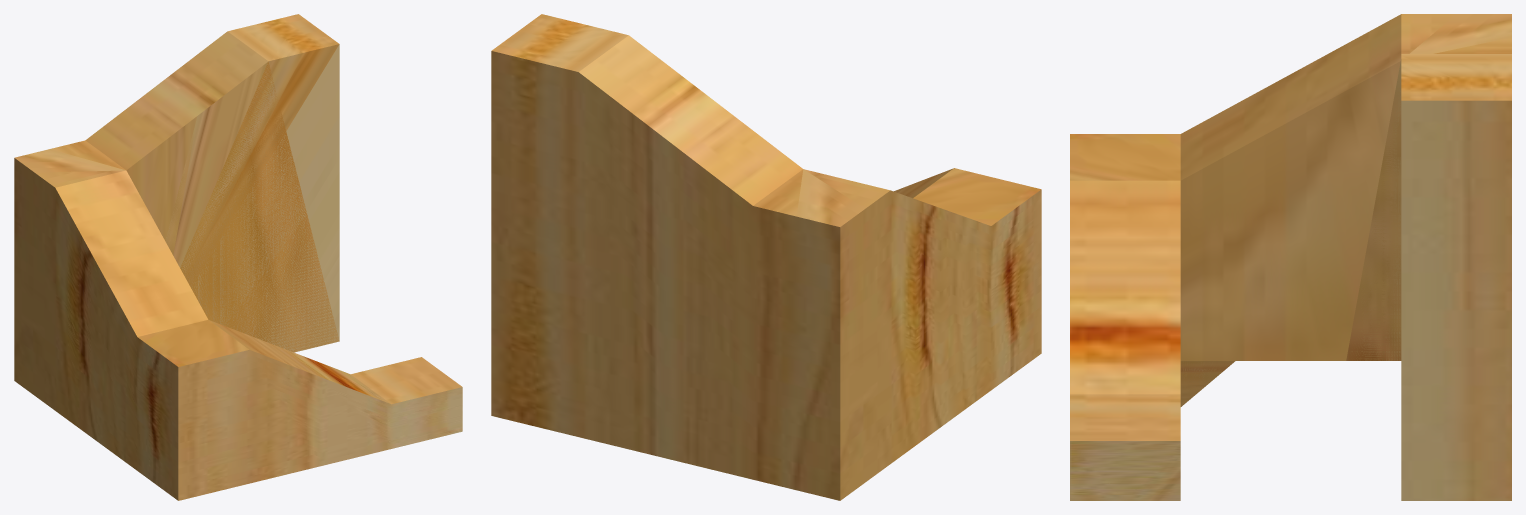
The model's file is stage1_ladder2.obj.
The picture shows the model from 3 angles, left to right: view 1: azimuth 30°, elevation 25°; view 2: azimuth 150°, elevation 25°; view 3: azimuth 270°, elevation 25°; orthographic projection. The views are drawn at different scales.
Visible parts, largest first — view 1: 立方體.001; view 2: 立方體.001; view 3: 立方體.001.
Boxes of the visible parts, x1,y1,x2,y2 form: 立方體.001: [14, 14, 462, 500]; 立方體.001: [491, 14, 1041, 500]; 立方體.001: [1070, 14, 1511, 500].
Bounding box in the file's own units: 100 × 100 × 100.
1 material, 1 textured.
